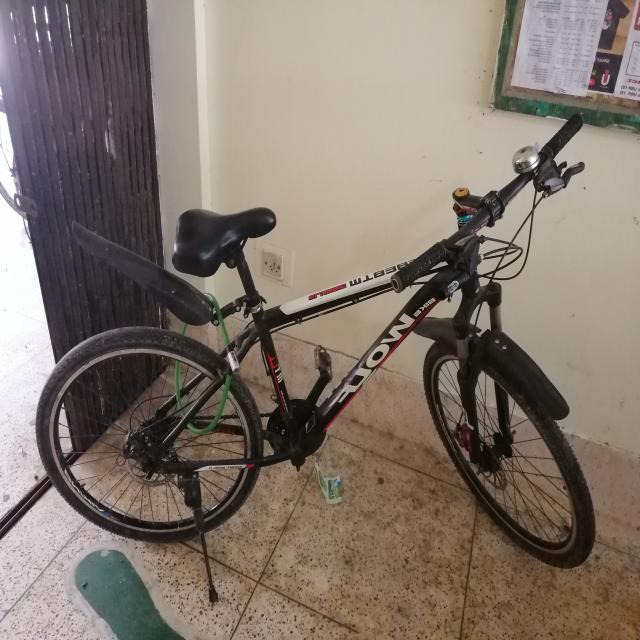Bicycle: (27, 118, 618, 605)
